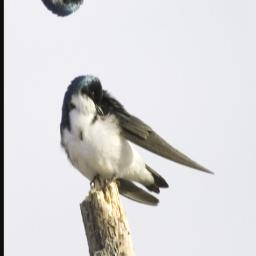Swallow: (47, 38, 217, 233)
